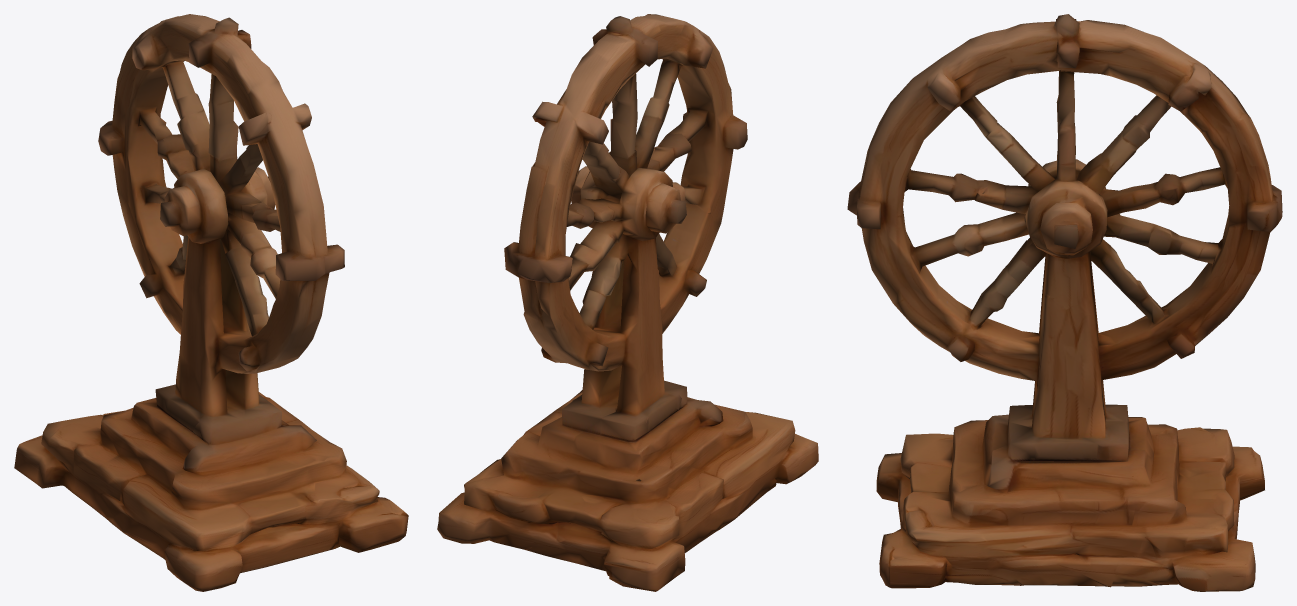
The model's file is spinning_wheel.glb.
3 renders of one model, left to right at view 1: azimuth 30°, elevation 25°; view 2: azimuth 150°, elevation 25°; view 3: azimuth 270°, elevation 25°, orthographic. The views are drawn at different scales.
Visible parts, largest first — view 1: tripo_node_0129ae78-e7ac-4efd-8a89-6201f3505740; view 2: tripo_node_0129ae78-e7ac-4efd-8a89-6201f3505740; view 3: tripo_node_0129ae78-e7ac-4efd-8a89-6201f3505740.
Boxes of the visible parts, x1,y1,x2,y2 form: tripo_node_0129ae78-e7ac-4efd-8a89-6201f3505740: [14, 14, 408, 591]; tripo_node_0129ae78-e7ac-4efd-8a89-6201f3505740: [437, 14, 818, 591]; tripo_node_0129ae78-e7ac-4efd-8a89-6201f3505740: [847, 14, 1282, 591].
Bounding box in the file's own units: 0.4912 × 1 × 0.7533.
1 material, 1 textured.
